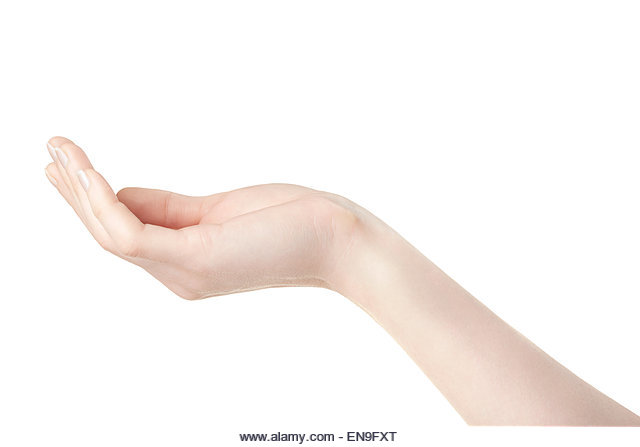hand: (28, 117, 383, 351)
